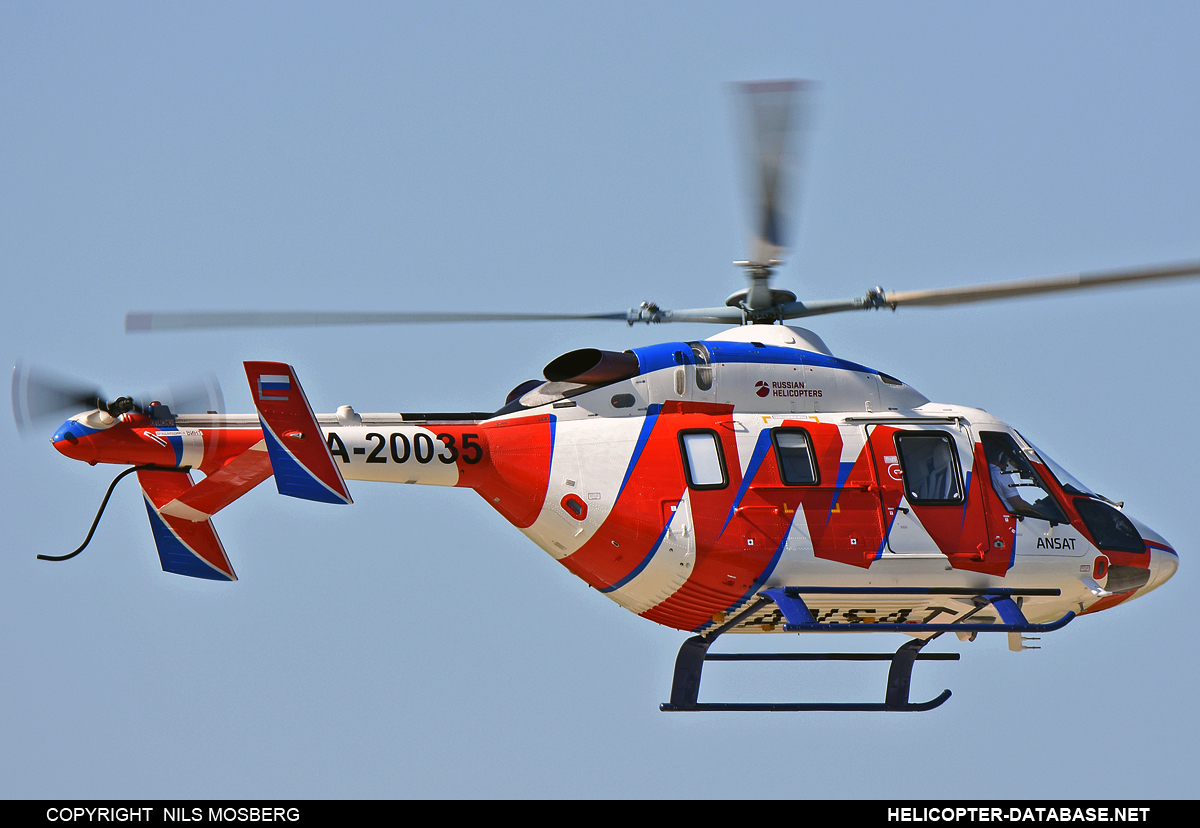number: (322, 425, 488, 466)
